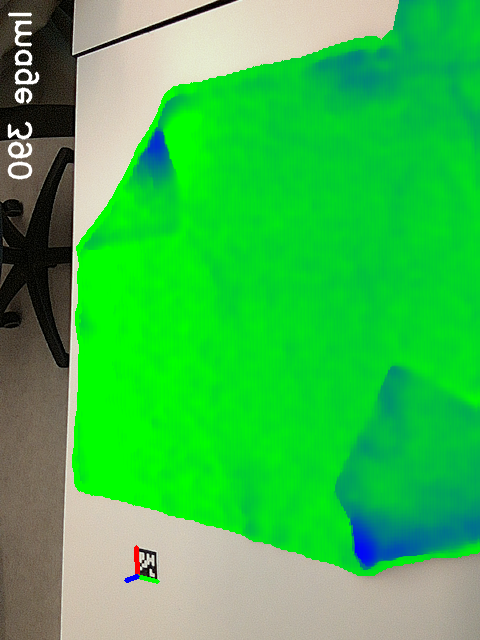V: (142, 192, 193, 242), (373, 352, 422, 395)
